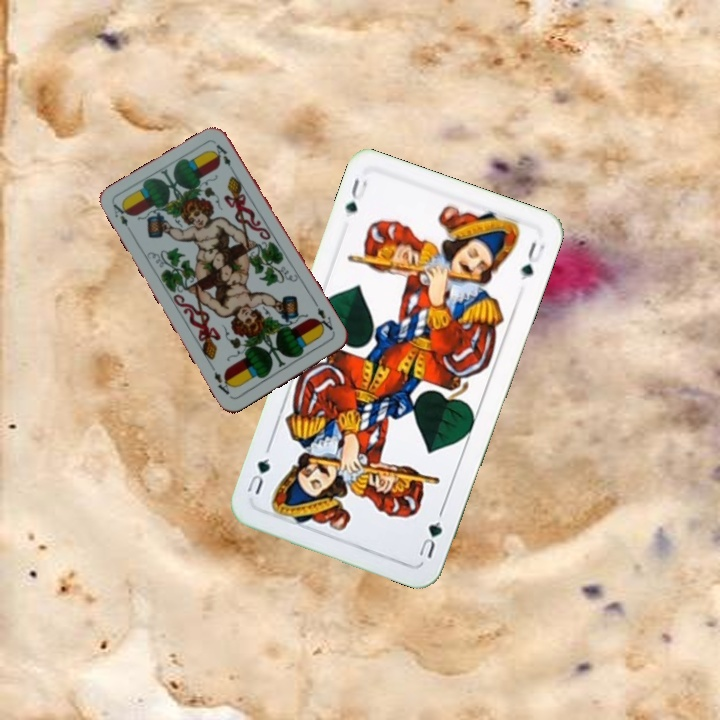EA: (311, 299, 338, 336), (109, 199, 135, 237)
GU: (414, 507, 446, 561), (341, 174, 370, 216)
